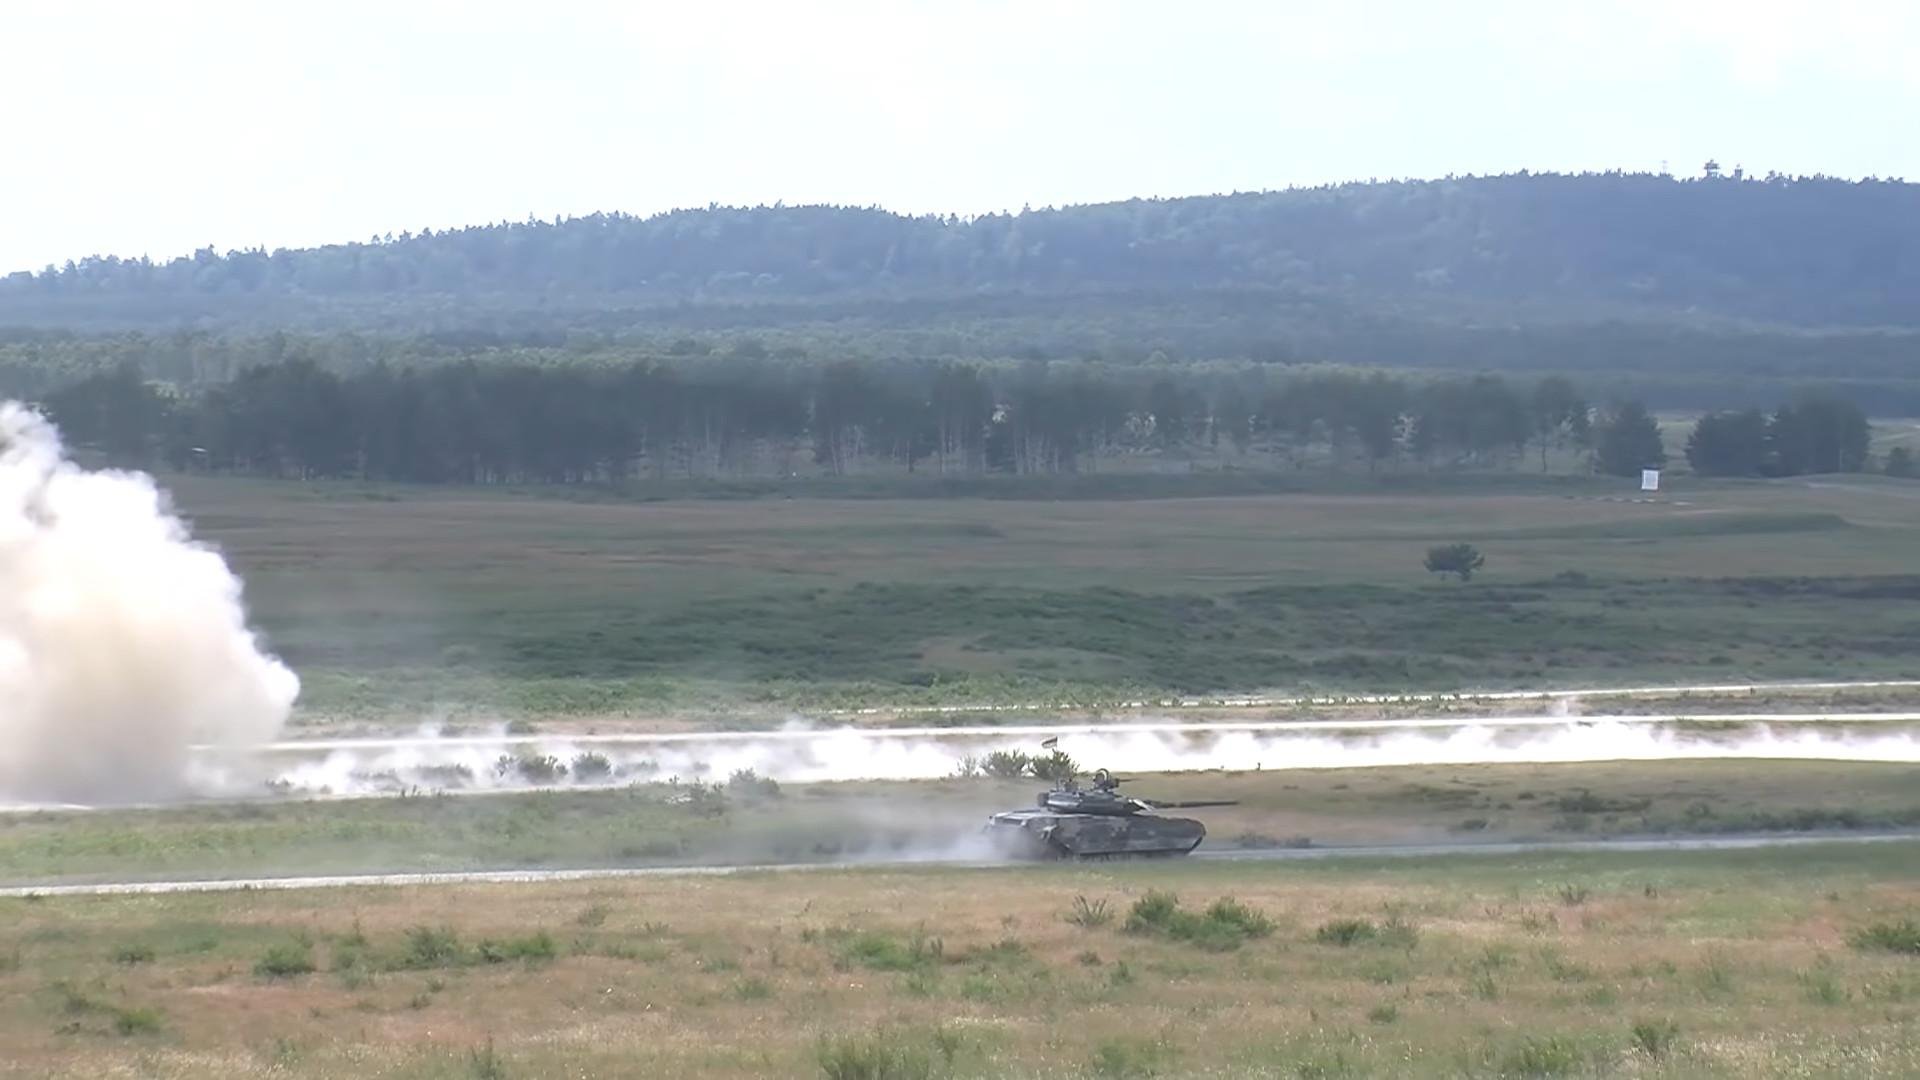tank: (978, 773, 1241, 856)
